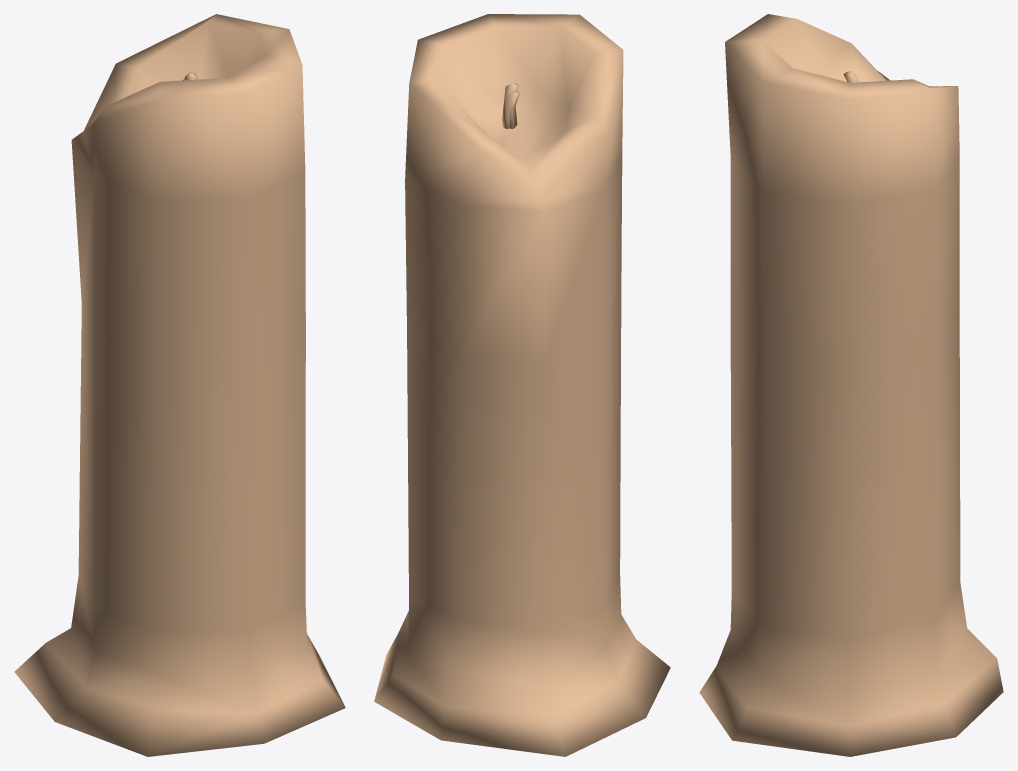
Rendered from Candle.fbx.
The picture shows the model from 3 angles, left to right: view 1: azimuth 30°, elevation 25°; view 2: azimuth 150°, elevation 25°; view 3: azimuth 270°, elevation 25°; orthographic projection. The views are drawn at different scales.
Visible parts, largest first — view 1: Candle; view 2: Candle; view 3: Candle.
Boxes of the visible parts, x1=… form: Candle: x1=14, y1=14, x2=345, y2=756; Candle: x1=374, y1=14, x2=670, y2=756; Candle: x1=699, y1=14, x2=1003, y2=756.
Bounding box in the file's own units: 4.65 × 10.76 × 4.57.
